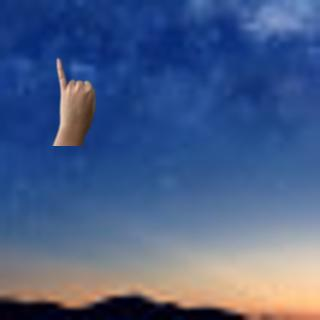FINE: (51, 56, 99, 134)
